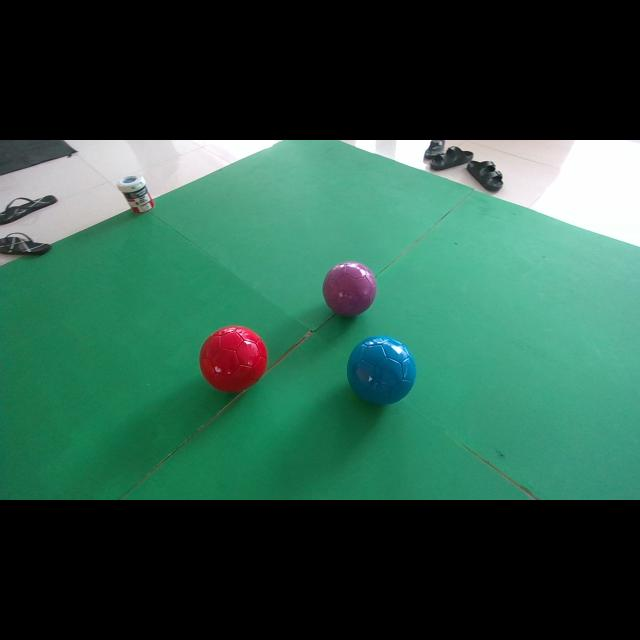B: (348, 335, 416, 405)
P: (322, 261, 376, 316)
R: (200, 326, 268, 392)
